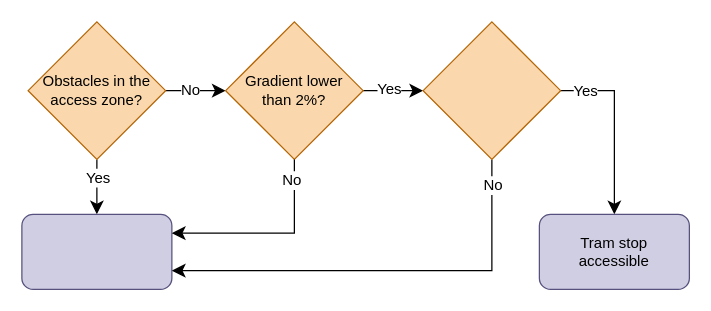
The diagram is 711 pixels wide and 311 high, and some of its shapes have lost their labels. The centre of each missing label's shape, as x and y in pixels:
"Camber lower than 3%?" belongs at (491,90).
"Tram stop not accessible" belongs at (96,251).
